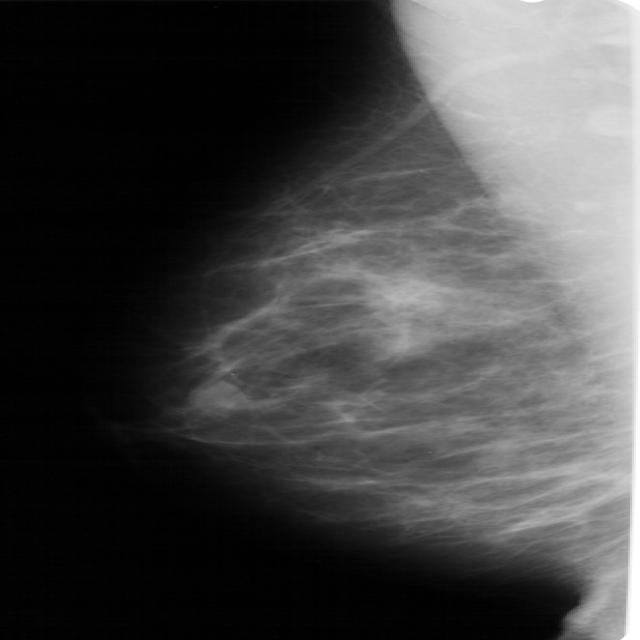tumour: (188, 378, 243, 414)
